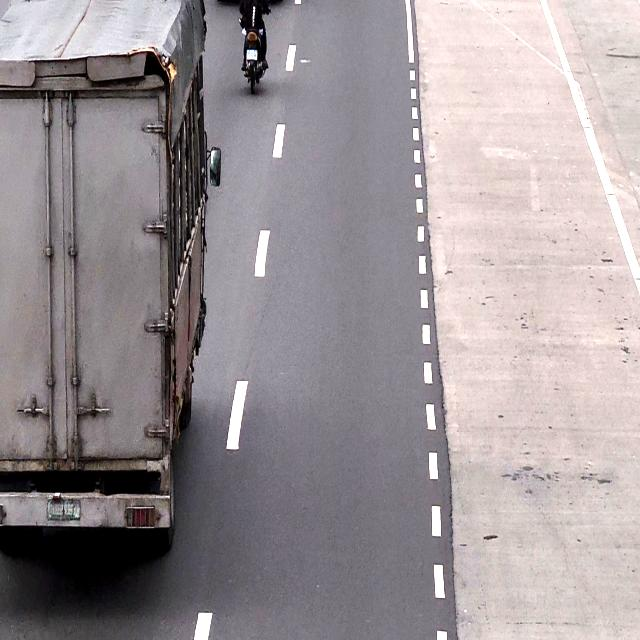Jeep: (0, 0, 202, 535)
Motorcycle: (237, 0, 274, 98)
